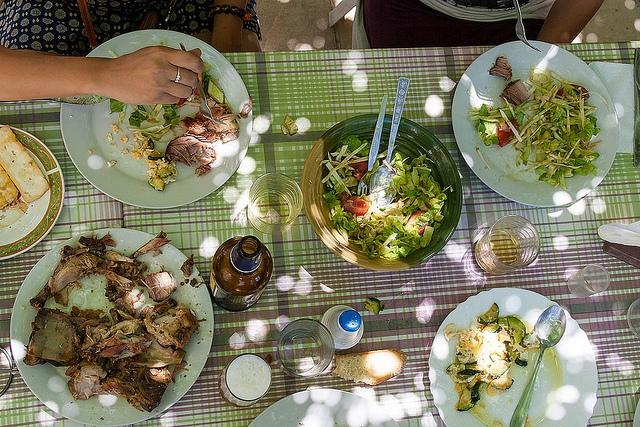tomato: (341, 195, 369, 216), (406, 210, 429, 234), (349, 162, 368, 184), (498, 128, 514, 147), (176, 98, 185, 104), (194, 87, 200, 96)
